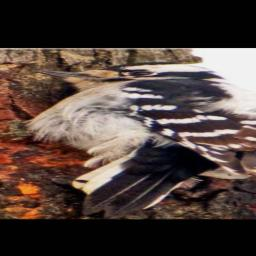Woodpecker: (0, 59, 256, 219)
